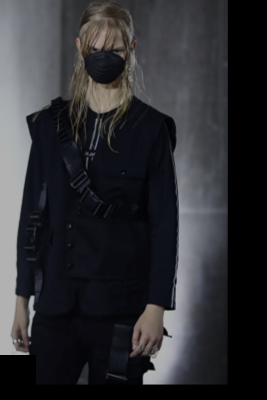with_mask: (79, 41, 127, 84)
